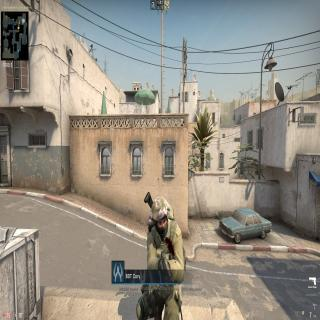CT-Head: (146, 194, 173, 238)
